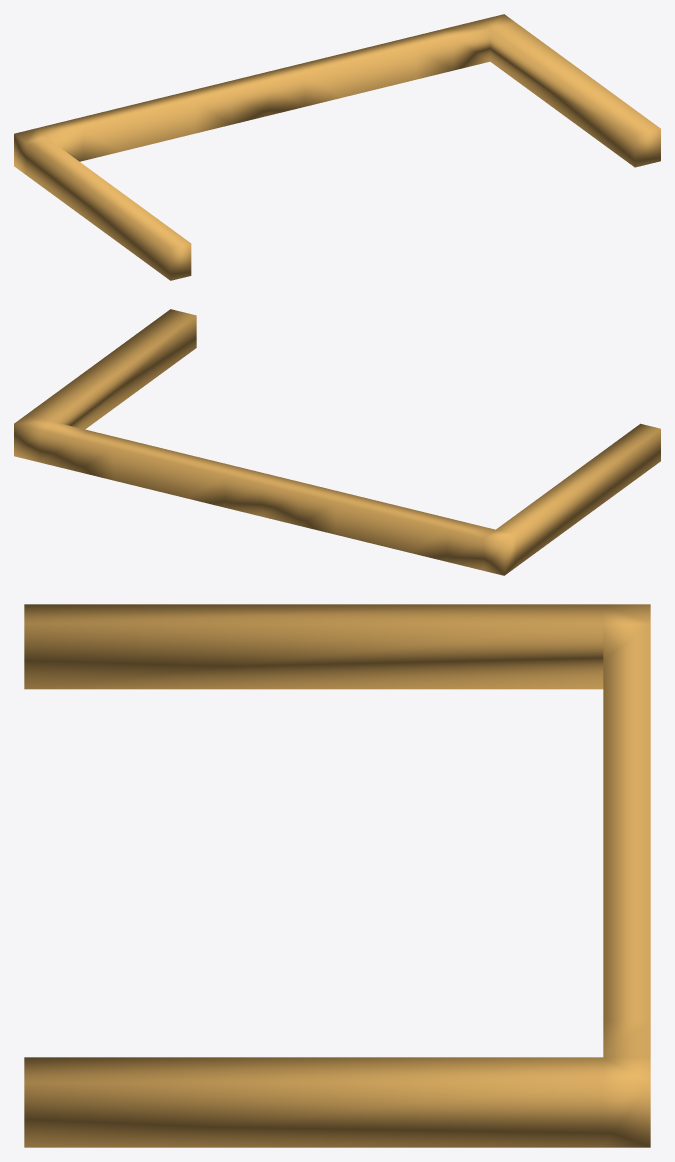
The model's file is NudeThinGlasses.fbx.
The picture shows the model from 3 angles, top to bottom: view 1: azimuth 30°, elevation 25°; view 2: azimuth 150°, elevation 25°; view 3: azimuth 270°, elevation 25°; orthographic projection. The views are drawn at different scales.
Parts seen in each view (by area): view 1: OG GLASSES.006; view 2: OG GLASSES.006; view 3: OG GLASSES.006.
Part boxes in pixels (box(x1,y1,x2,y2)): OG GLASSES.006: box(14, 14, 660, 280); OG GLASSES.006: box(14, 309, 660, 575); OG GLASSES.006: box(24, 604, 650, 1147).
Size of the model in its own units: 110 by 7 by 61.13.
